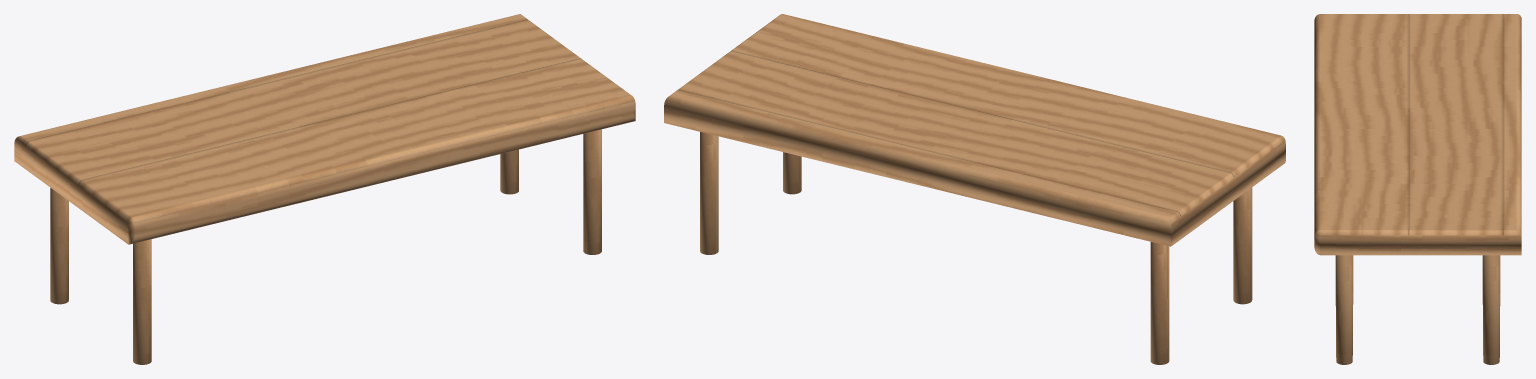
Rendered from table.glb.
3 renders of one model, left to right at view 1: azimuth 30°, elevation 25°; view 2: azimuth 150°, elevation 25°; view 3: azimuth 270°, elevation 25°, orthographic. The views are drawn at different scales.
Visible parts, largest first — view 1: TABLE; view 2: TABLE; view 3: TABLE.
Part boxes in pixels (left/top/right/bottom): TABLE: left=14, top=14, right=635, bottom=364; TABLE: left=664, top=14, right=1285, bottom=364; TABLE: left=1314, top=14, right=1521, bottom=364.
Size of the model in its own units: 1 by 0.302 by 0.4.
Materials: 1 (1 with a texture image).
